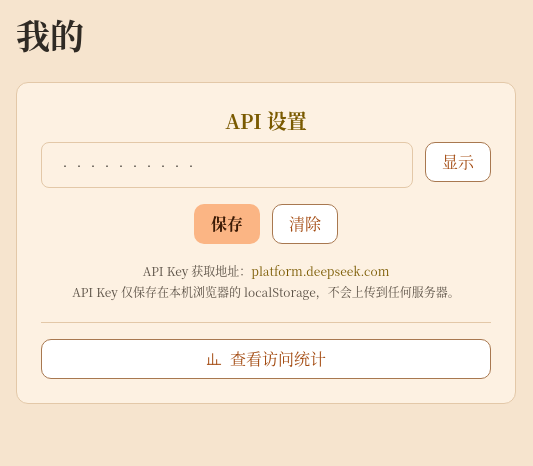
Profile › 应该在无默认 key 时清除 API key
The width and height of the screenshot is (533, 466).
Step 1. Click the button "清除" → (305, 224), box [272,204,338,244]
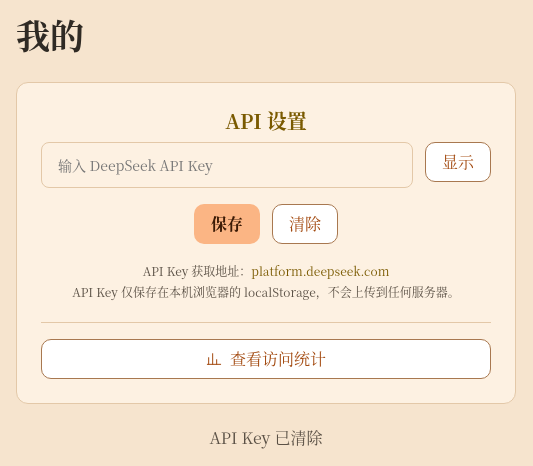
Result: the text "API Key 已清除" is shown at [210,426,322,449]
